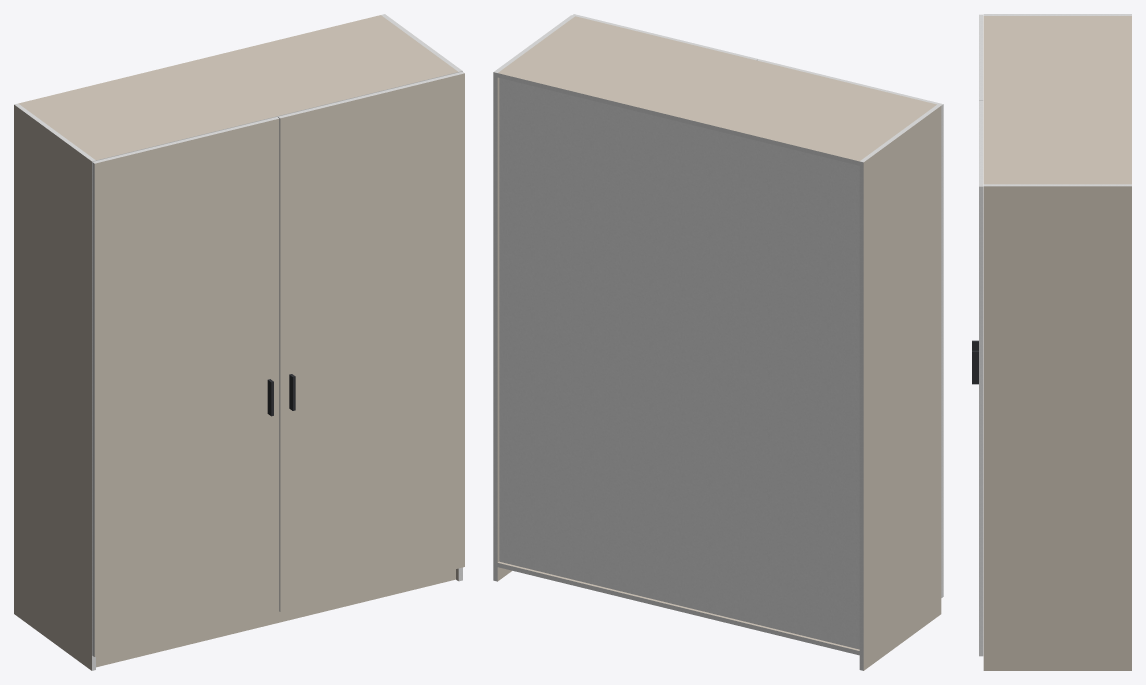
The model's file is CAL-WRD-double.glb.
The picture shows the model from 3 angles, left to right: view 1: azimuth 30°, elevation 25°; view 2: azimuth 150°, elevation 25°; view 3: azimuth 270°, elevation 25°; orthographic projection. The views are drawn at different scales.
Parts seen in each view (by area): view 1: door-l:pbr, door-r:pbr, side-l:pbr, top:pbr, plinth:pbr, door-l:sheet:eyJtIjoibWRmIiwic2lkZSI6ImVkZ2UtbG9uZyIsInNlZWQ, door-r:sheet:eyJtIjoibWRmIiwic2lkZSI6ImVkZ2UtbG9uZyIsInNlZWQ; view 2: back:sheet:eyJtIjoibWRmIiwic2lkZSI6ImZhY2UiLCJzZWVkIjoxLCJ0a, side-l:pbr, top:pbr, side-l:sheet:eyJtIjoibWRmIiwic2lkZSI6ImVkZ2UtbG9uZyIsInNlZWQ, side-r:sheet:eyJtIjoibWRmIiwic2lkZSI6ImVkZ2UtbG9uZyIsInNlZWQ, top:sheet:eyJtIjoibWRmIiwic2lkZSI6ImVkZ2UtbG9uZyIsInNlZWQiOj, bottom:sheet:eyJtIjoibWRmIiwic2lkZSI6ImVkZ2UtbG9uZyIsInNlZWQ, side-r:pbr, door-l:sheet:eyJtIjoibWRmIiwic2lkZSI6ImVkZ2UtbG9uZyIsInNlZWQ, bottom:pbr; view 3: side-r:pbr, top:pbr, door-r:sheet:eyJtIjoibWRmIiwic2lkZSI6ImVkZ2UtbG9uZyIsInNlZWQ, side-r:sheet:eyJtIjoibWRmIiwic2lkZSI6ImVkZ2UtZW5kIiwic2VlZCI, door-r:sheet:eyJtIjoibWRmIiwic2lkZSI6ImVkZ2UtZW5kIiwic2VlZCI, door-l:sheet:eyJtIjoibWRmIiwic2lkZSI6ImVkZ2UtZW5kIiwic2VlZCI, pull, side-l:sheet:eyJtIjoibWRmIiwic2lkZSI6ImVkZ2UtZW5kIiwic2VlZCI.
Part boxes in pixels (x1,y1,x2,y2): door-l:pbr: [94, 119, 279, 656]; door-r:pbr: [280, 73, 464, 611]; side-l:pbr: [14, 105, 91, 670]; top:pbr: [18, 15, 457, 160]; plinth:pbr: [96, 569, 455, 667]; door-l:sheet:eyJtIjoibWRmIiwic2lkZSI6ImVkZ2UtbG9uZyIsInNlZWQ: [92, 162, 94, 656]; door-r:sheet:eyJtIjoibWRmIiwic2lkZSI6ImVkZ2UtbG9uZyIsInNlZWQ: [278, 117, 280, 611]; back:sheet:eyJtIjoibWRmIiwic2lkZSI6ImZhY2UiLCJzZWVkIjoxLCJ0a: [499, 78, 859, 649]; side-l:pbr: [863, 106, 941, 670]; top:pbr: [498, 16, 936, 161]; side-l:sheet:eyJtIjoibWRmIiwic2lkZSI6ImVkZ2UtbG9uZyIsInNlZWQ: [859, 161, 863, 670]; side-r:sheet:eyJtIjoibWRmIiwic2lkZSI6ImVkZ2UtbG9uZyIsInNlZWQ: [493, 72, 497, 581]; top:sheet:eyJtIjoibWRmIiwic2lkZSI6ImVkZ2UtbG9uZyIsInNlZWQiOj: [497, 73, 859, 165]; bottom:sheet:eyJtIjoibWRmIiwic2lkZSI6ImVkZ2UtbG9uZyIsInNlZWQ: [497, 563, 859, 655]; side-r:pbr: [497, 77, 511, 581]; door-l:sheet:eyJtIjoibWRmIiwic2lkZSI6ImVkZ2UtbG9uZyIsInNlZWQ: [941, 104, 943, 597]; bottom:pbr: [498, 561, 859, 650]; side-r:pbr: [983, 186, 1131, 670]; top:pbr: [983, 16, 1131, 184]; door-r:sheet:eyJtIjoibWRmIiwic2lkZSI6ImVkZ2UtbG9uZyIsInNlZWQ: [979, 186, 983, 656]; side-r:sheet:eyJtIjoibWRmIiwic2lkZSI6ImVkZ2UtZW5kIiwic2VlZCI: [983, 184, 1131, 186]; door-r:sheet:eyJtIjoibWRmIiwic2lkZSI6ImVkZ2UtZW5kIiwic2VlZCI: [979, 100, 983, 186]; door-l:sheet:eyJtIjoibWRmIiwic2lkZSI6ImVkZ2UtZW5kIiwic2VlZCI: [979, 14, 983, 100]; pull: [972, 340, 978, 384]; side-l:sheet:eyJtIjoibWRmIiwic2lkZSI6ImVkZ2UtZW5kIiwic2VlZCI: [983, 14, 1131, 15].
Bounding box in the file's own units: 1.6 × 2.1 × 0.6271.
Materials: 34 (23 with a texture image).
